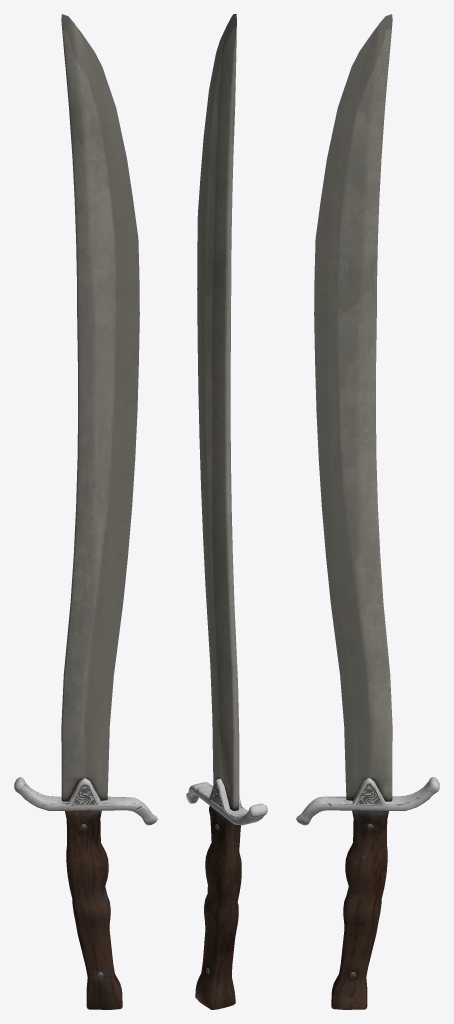
The model's file is sablya-gladkaya.glb.
3 views of the same model, side by side, from view 1: azimuth 90°, elevation 25°; view 2: azimuth 210°, elevation 25°; view 3: azimuth 270°, elevation 25° (orthographic).
Visible parts, largest first — view 1: wooden_handle_saber; view 2: wooden_handle_saber; view 3: wooden_handle_saber.
Part boxes in pixels (<box>): wooden_handle_saber: <box>14,14,157,1009</box>; wooden_handle_saber: <box>186,14,267,1009</box>; wooden_handle_saber: <box>296,14,439,1009</box>.
Size of the model in its own units: 0.0257 by 0.9355 by 0.1228.
Materials: 1 (1 with a texture image).
